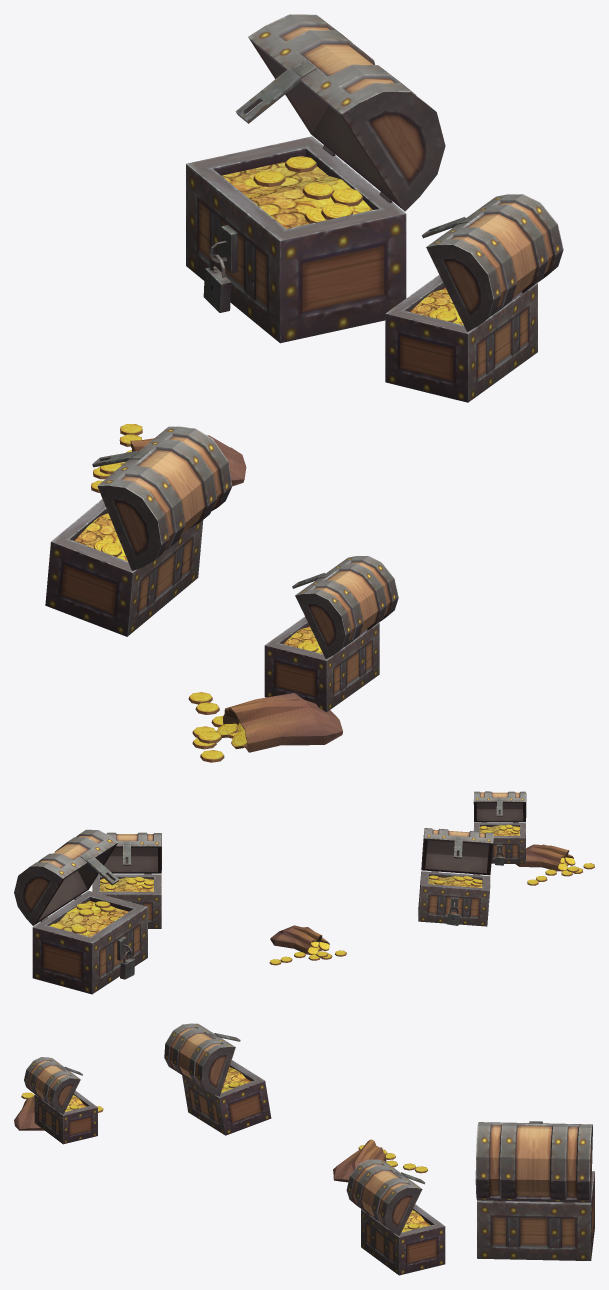
Rendered from Area_08_18.fbx.
3 renders of one model, top to bottom at view 1: azimuth 30°, elevation 25°; view 2: azimuth 150°, elevation 25°; view 3: azimuth 270°, elevation 25°, orthographic. The views are drawn at different scales.
Parts seen in each view (by area): view 1: Area_08_18; view 2: Area_08_18; view 3: Area_08_18.
Part boxes in pixels (left/top/right/bottom): Area_08_18: left=45, top=14, right=563, bottom=762; Area_08_18: left=14, top=791, right=594, bottom=994; Area_08_18: left=14, top=1023, right=594, bottom=1275.
Bounding box in the file's own units: 900 × 294 × 1193.
